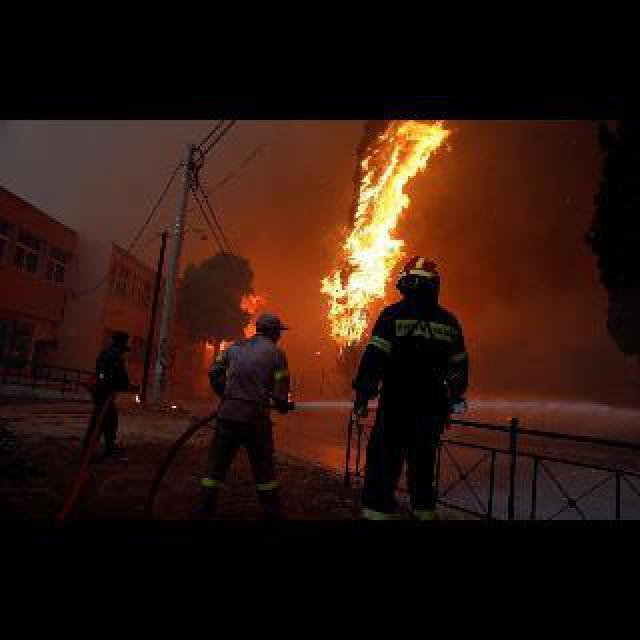fire: (314, 124, 385, 345), (383, 121, 457, 246)
